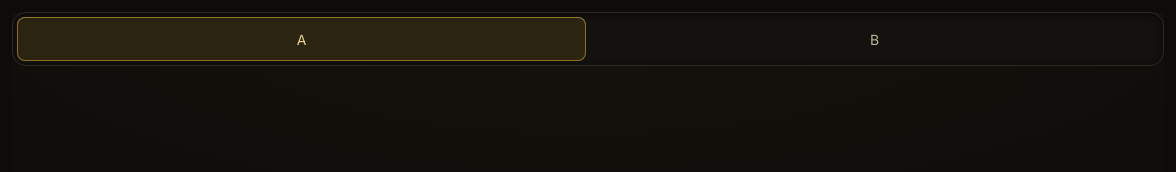
Test: form controls › Segmented selects by tap and by arrow keys; Tabs expose aria-selected
The image size is (1176, 172).
Later steps or results of the test are not shown.
Click the radio button labelled "B": click(874, 39) [590,17,1159,61]
Press ArrowRight in the element showing "A B", box [12,12,1164,66]
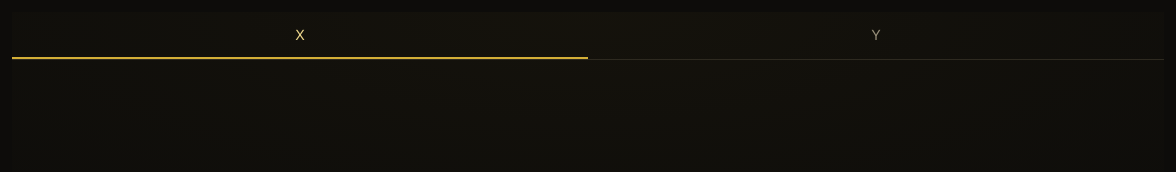
Now the tab "Y" is shown, box [588,12,1164,59]
